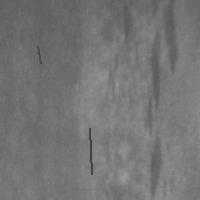inclusion: (144, 1, 182, 180), (145, 133, 171, 199), (115, 2, 139, 53), (87, 126, 93, 176), (35, 44, 42, 65)
